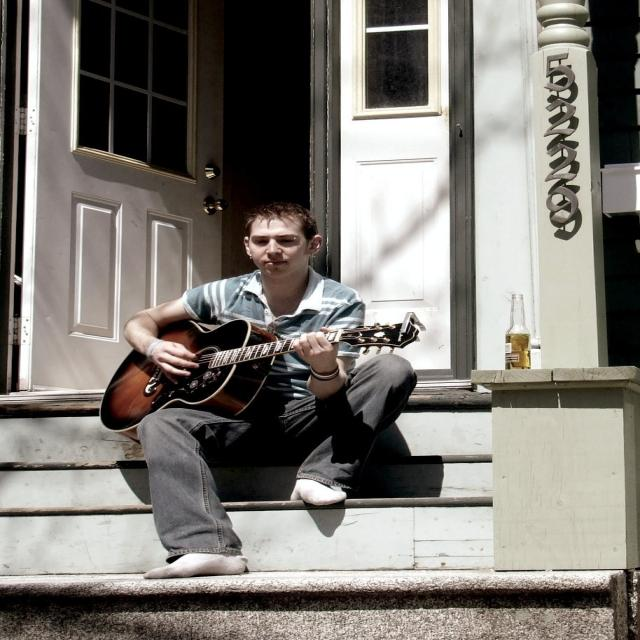guitar: (97, 314, 428, 437)
